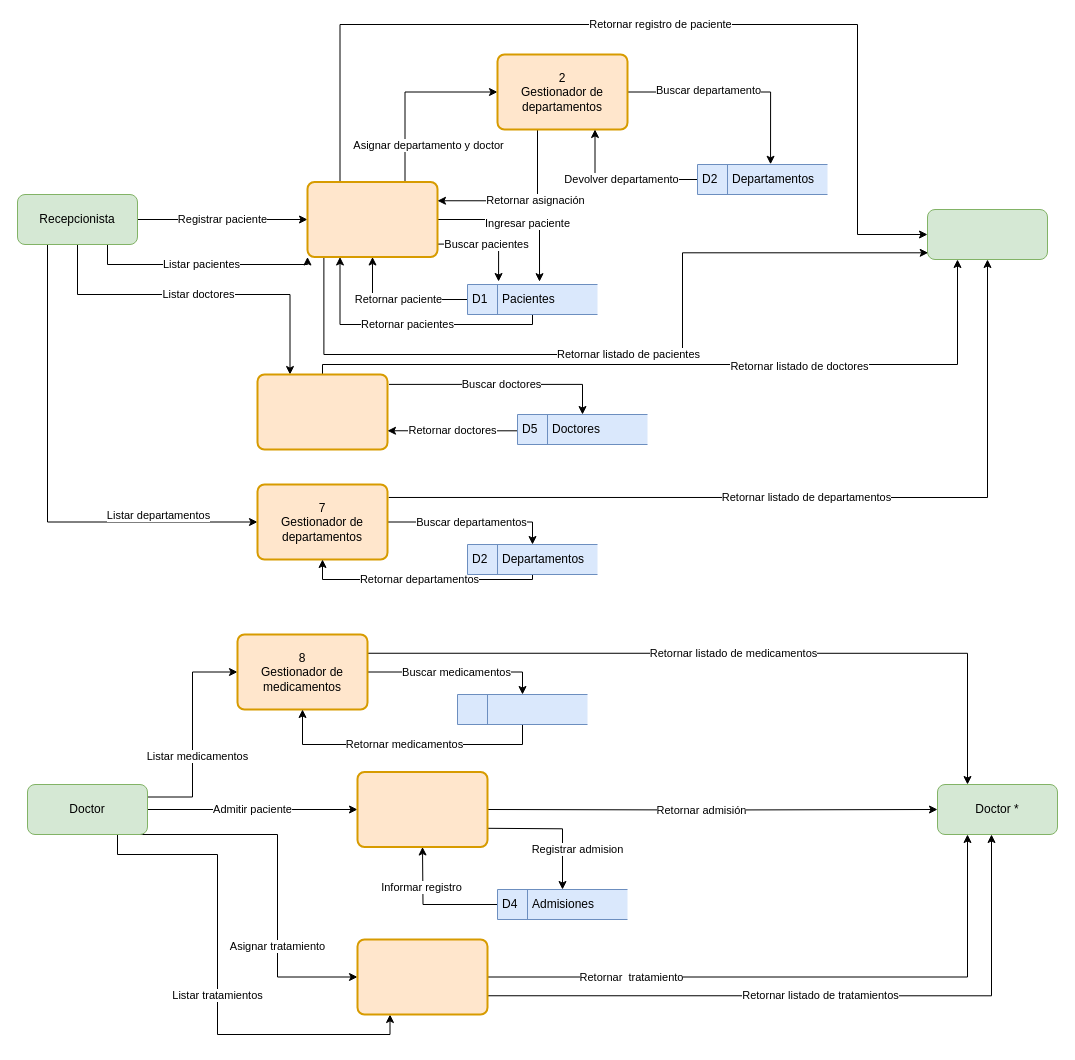
Image size: 1075x1060. Some labels were removed from this diagram. The centre of each missing label's shape, as x and y in pixels:
1 Gestionador de pacientes: the point at 372,219
4 Gestionador de admisiones: the point at 422,809
5 Gestionador de tratamientos: the point at 422,976
6 Gestionador de doctores: the point at 322,411
D6 Medicamentos: the point at 522,709
Recepcionista *: the point at 987,234
